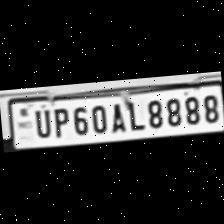0: (86, 101, 109, 135)
6: (67, 102, 88, 136)
8: (142, 95, 164, 130), (180, 92, 202, 126), (198, 91, 220, 124), (162, 94, 182, 128)
A: (106, 100, 126, 133)
L: (120, 97, 143, 132)
P: (48, 104, 70, 139)
U: (29, 105, 50, 140)
